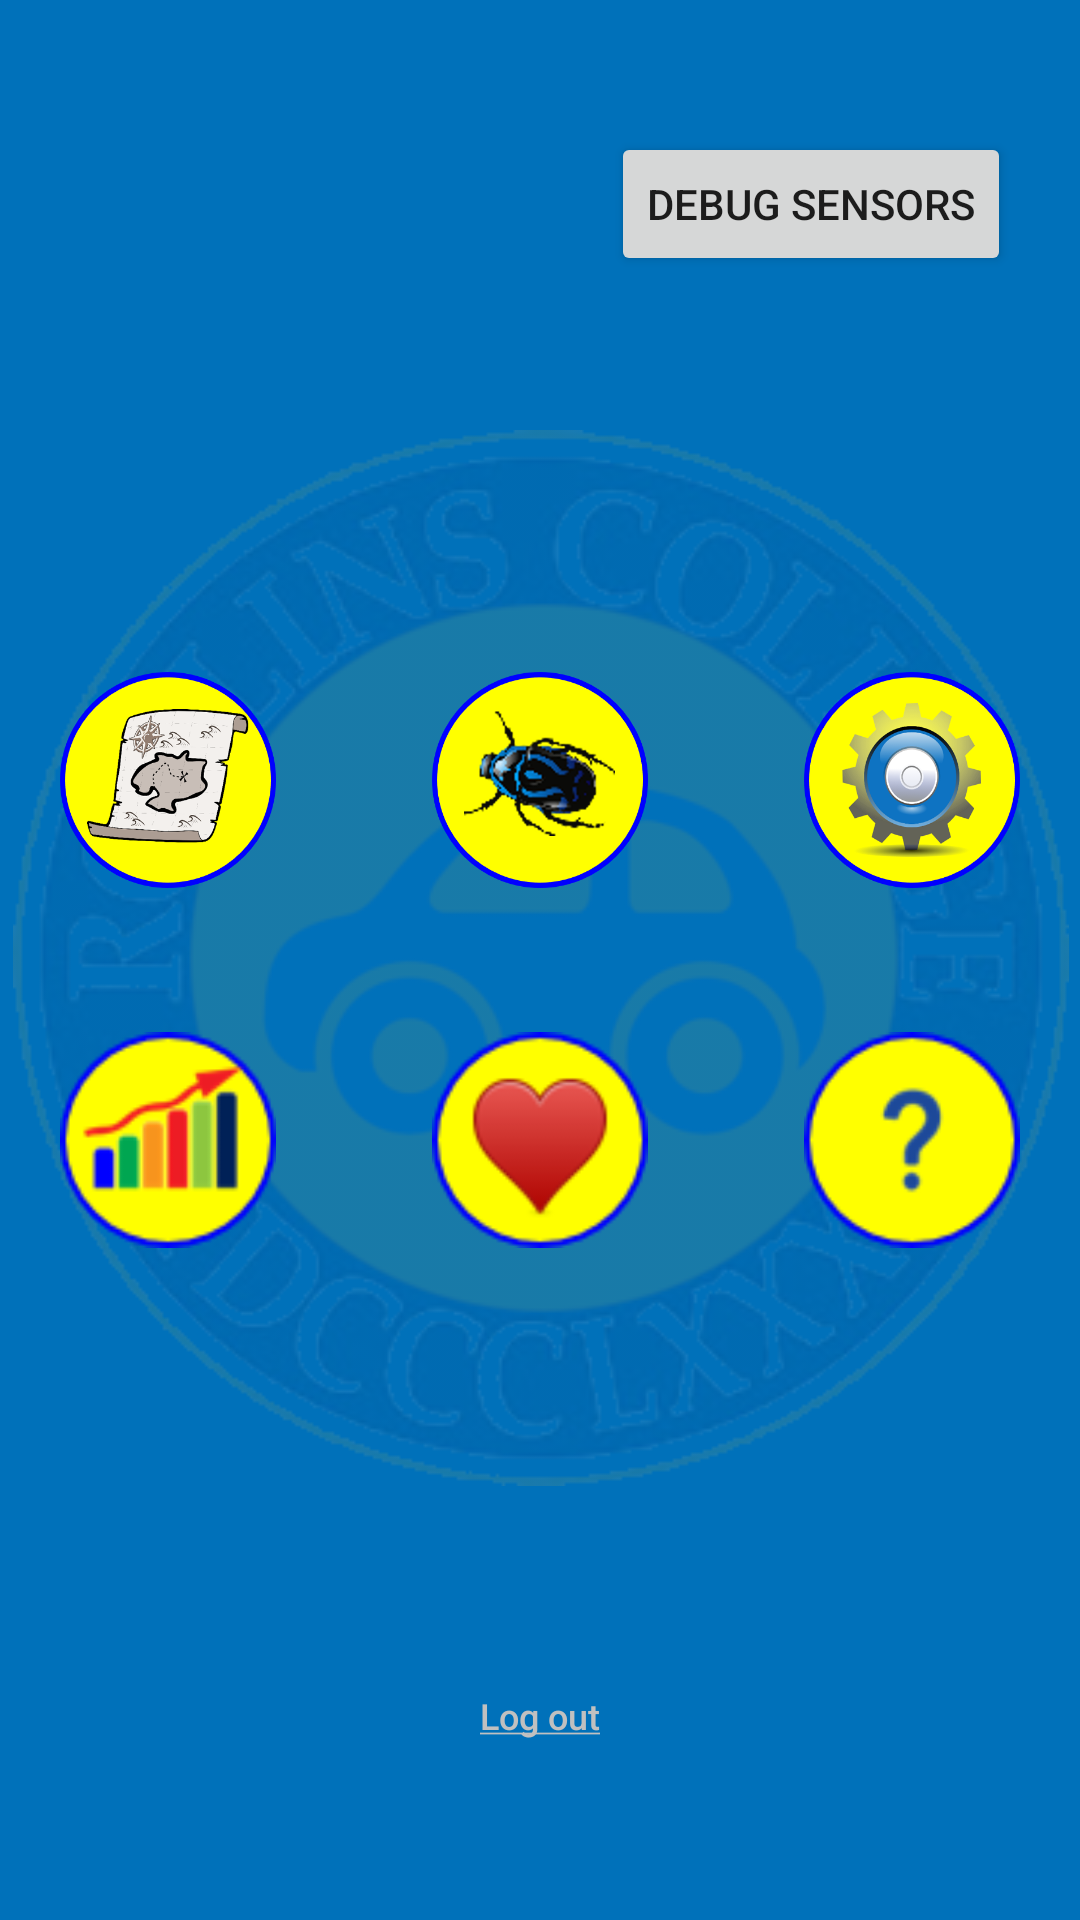

Named icons in this screenshot (1080px×1920px) and their bounding boxes, [x1,y1,x2,y2]:
bug report: [432,672,648,888]
favorites: [432,1032,648,1248]
help: [804,1032,1020,1248]
map: [60,672,276,888]
settings: [804,672,1020,888]
trends: [60,1032,276,1248]
